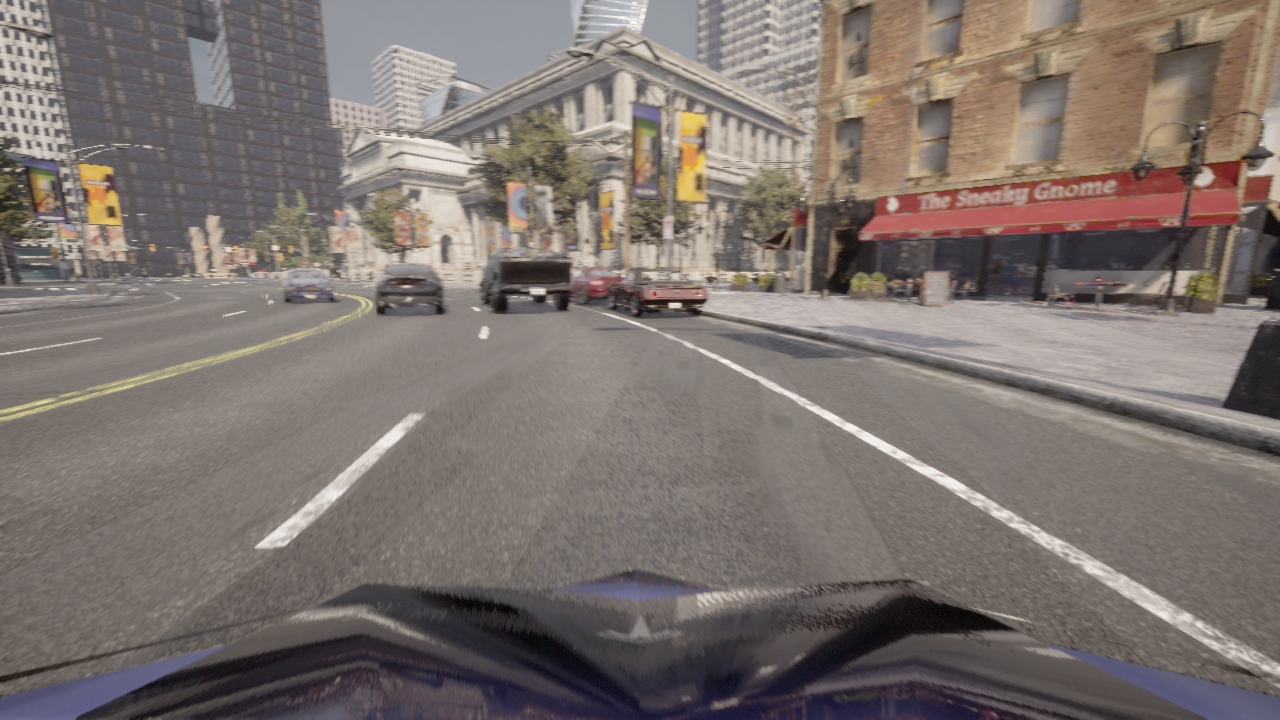cyclist: (0, 569, 1279, 719), (479, 247, 572, 312), (607, 270, 707, 316), (374, 263, 447, 314), (571, 267, 622, 304), (279, 269, 335, 302), (437, 277, 442, 286)
